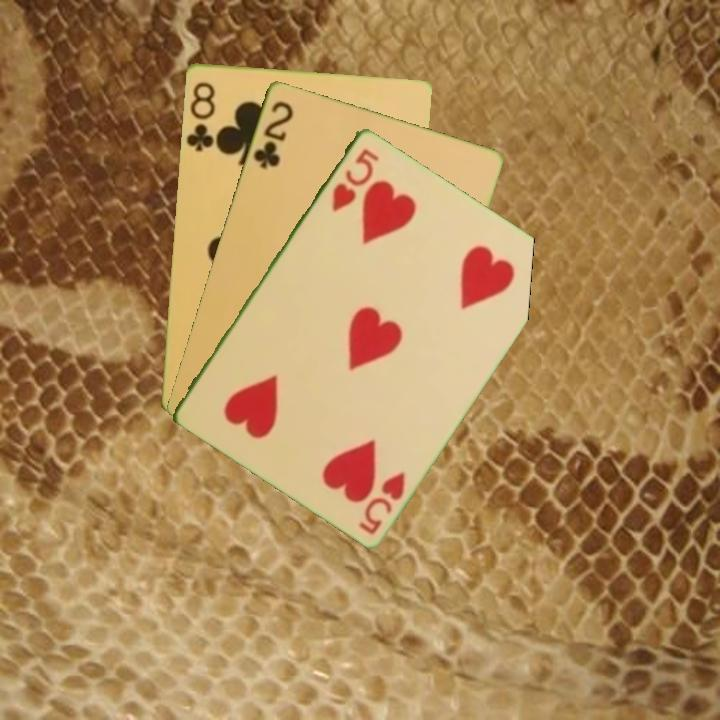2c: (249, 96, 296, 172)
5h: (328, 144, 382, 215), (354, 467, 408, 537)
8c: (183, 78, 219, 154)
